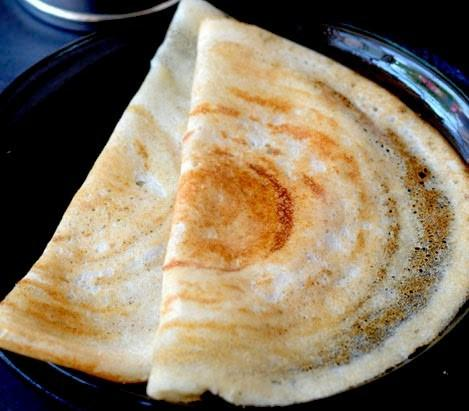Dosa: (148, 19, 468, 406), (0, 2, 226, 382)
